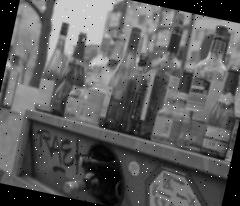glass: (29, 0, 240, 160), (0, 43, 26, 113)
